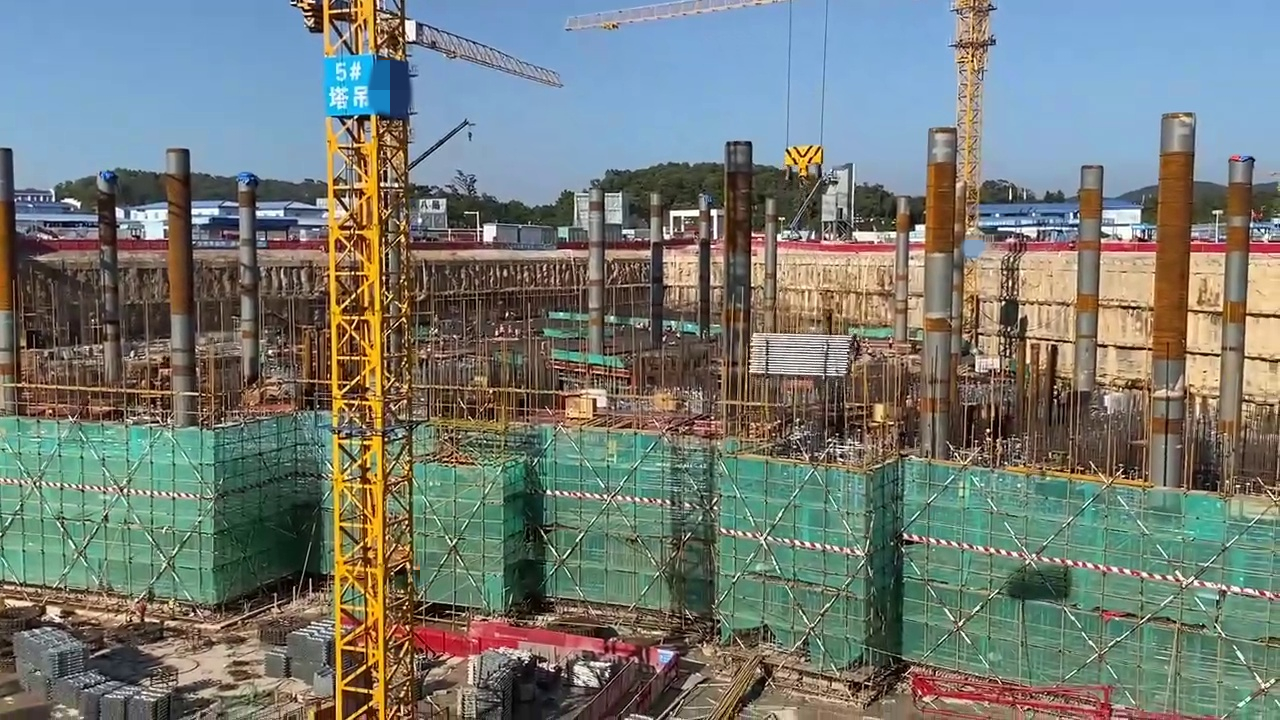fence: (465, 622, 611, 651), (415, 621, 465, 659)
hook: (784, 142, 825, 169)
scaffold: (13, 626, 84, 703), (65, 673, 170, 720), (750, 334, 854, 376), (285, 620, 335, 689)
wood: (564, 394, 599, 419)
